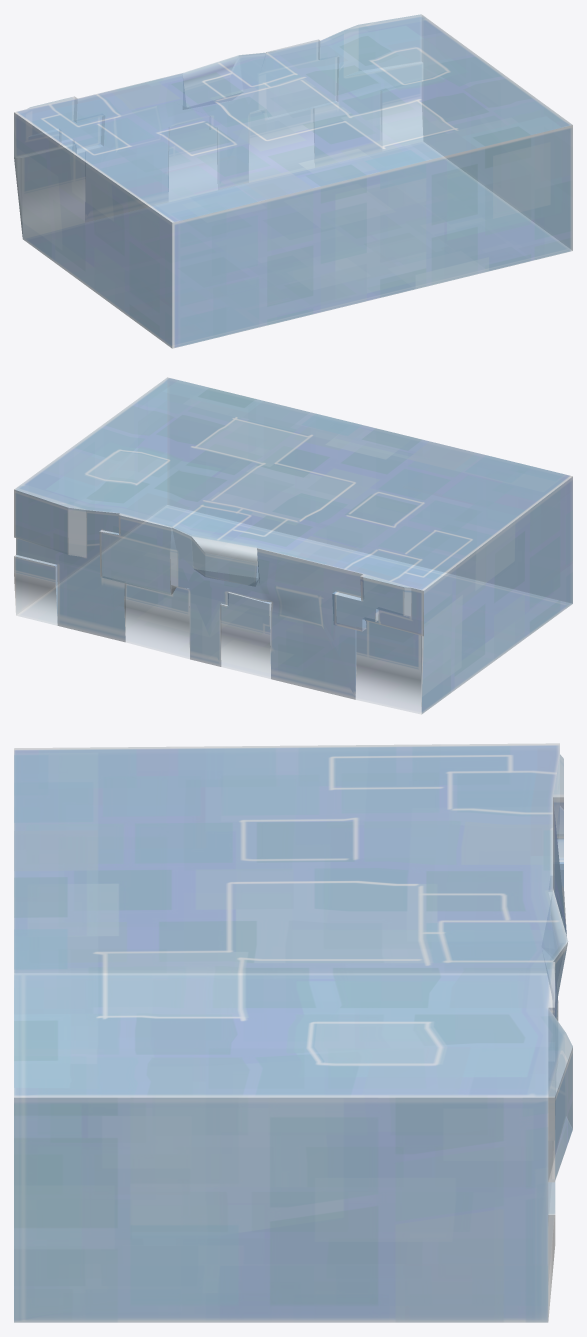
The model's file is Ice_One.fbx.
The picture shows the model from 3 angles, top to bottom: view 1: azimuth 30°, elevation 25°; view 2: azimuth 150°, elevation 25°; view 3: azimuth 270°, elevation 25°; orthographic projection. The views are drawn at different scales.
Parts seen in each view (by area): view 1: pCube2; view 2: pCube2; view 3: pCube2.
Boxes of the visible parts, x1,y1,x2,y2 form: pCube2: (14,14,572,348); pCube2: (14,377,572,714); pCube2: (14,743,572,1322).
Bounding box in the file's own units: 10.39 × 3.08 × 6.93.
1 material, 1 textured.
